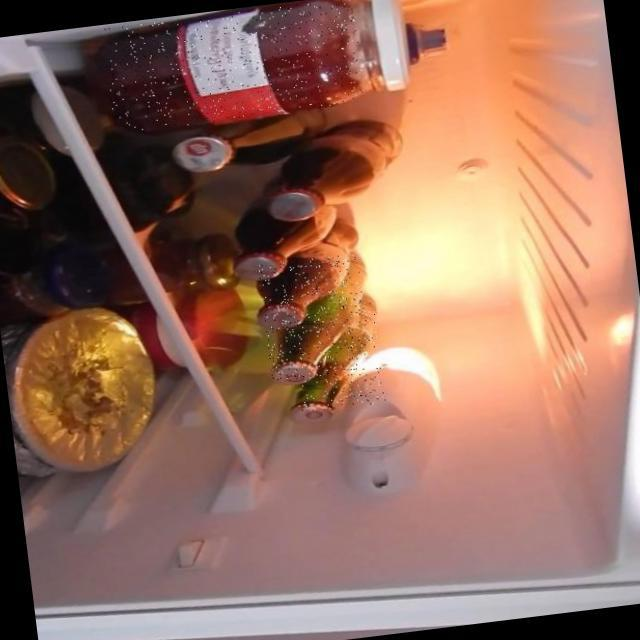Tomate: (100, 0, 365, 134)
mineral water: (257, 253, 371, 384), (287, 301, 385, 414)
